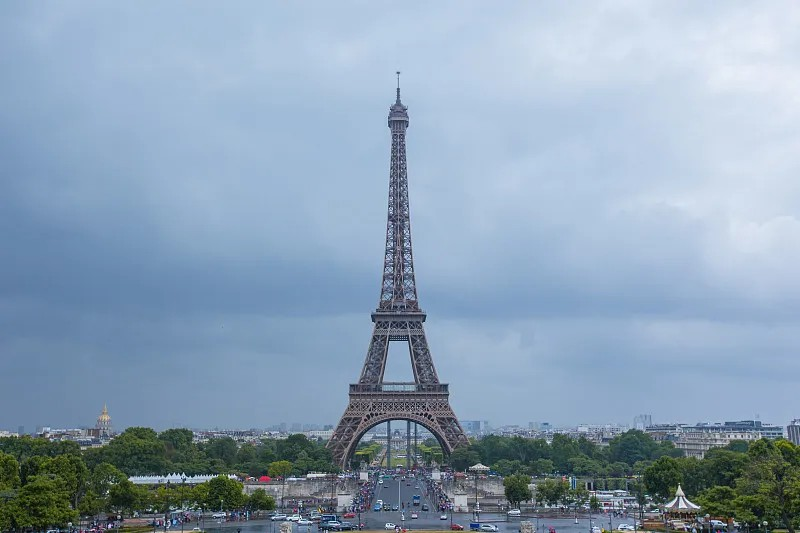Eiffel: (322, 73, 471, 469)
